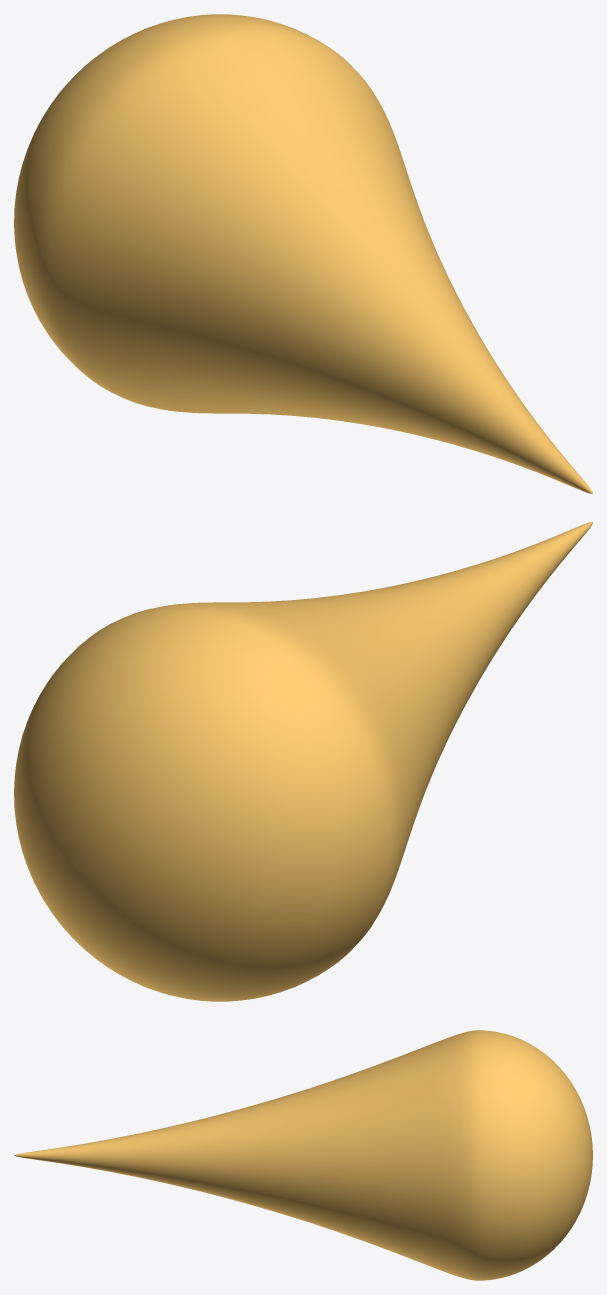
Rendered from SM_FireballFlame.fbx.
3 views of the same model, one above another, from view 1: azimuth 30°, elevation 25°; view 2: azimuth 150°, elevation 25°; view 3: azimuth 270°, elevation 25° (orthographic). The views are drawn at different scales.
Visible parts, largest first — view 1: SM_FireballFlame; view 2: SM_FireballFlame; view 3: SM_FireballFlame.
Part boxes in pixels (x1,y1,x2,y2): SM_FireballFlame: [14, 14, 592, 493]; SM_FireballFlame: [14, 522, 592, 1001]; SM_FireballFlame: [14, 1030, 592, 1280].
Bounding box in the file's own units: 116 × 116 × 268.
